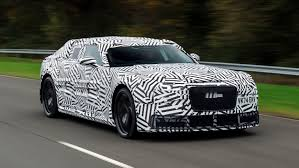car: (39, 33, 261, 142)
